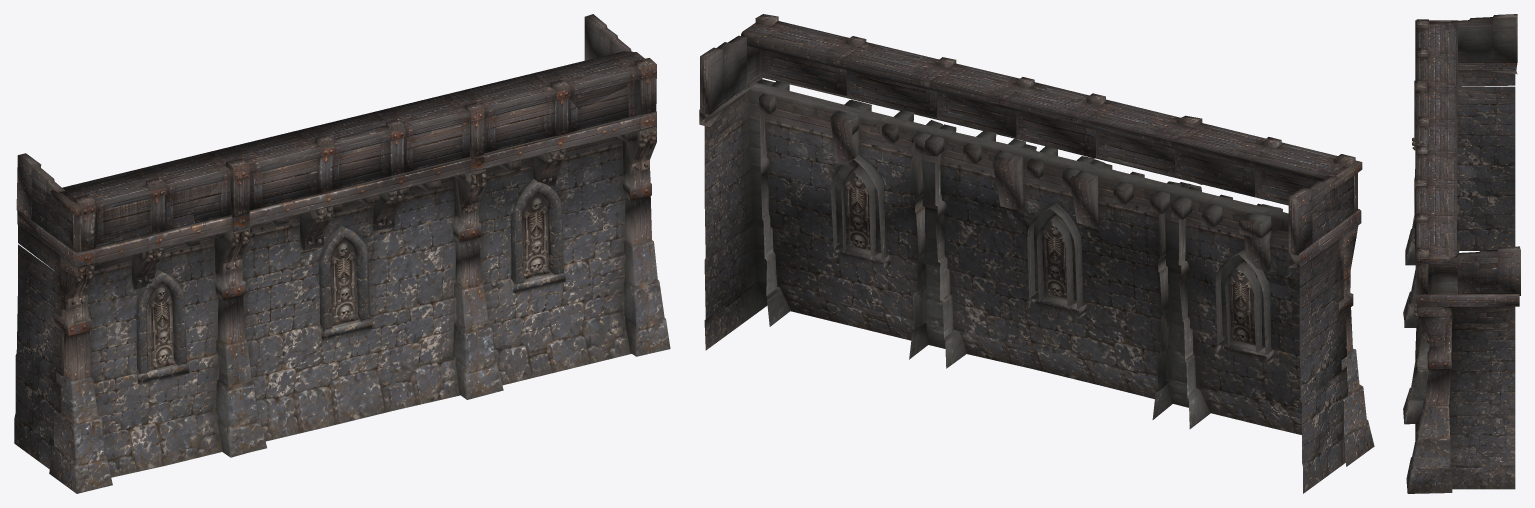
File: wall.glb
3 views of the same model, side by side, from view 1: azimuth 30°, elevation 25°; view 2: azimuth 150°, elevation 25°; view 3: azimuth 270°, elevation 25° (orthographic). The views are drawn at different scales.
Parts seen in each view (by area): view 1: tripo_node_f0b5fd25-6b2f-4dca-83db-b1ed630d56d4; view 2: tripo_node_f0b5fd25-6b2f-4dca-83db-b1ed630d56d4; view 3: tripo_node_f0b5fd25-6b2f-4dca-83db-b1ed630d56d4.
Part boxes in pixels (bbox=[...]): tripo_node_f0b5fd25-6b2f-4dca-83db-b1ed630d56d4: bbox=[14, 14, 670, 493]; tripo_node_f0b5fd25-6b2f-4dca-83db-b1ed630d56d4: bbox=[699, 14, 1374, 493]; tripo_node_f0b5fd25-6b2f-4dca-83db-b1ed630d56d4: bbox=[1403, 14, 1520, 493].
Bounding box in the file's own units: 6 × 2.78 × 1.23.
Materials: 1 (1 with a texture image).
